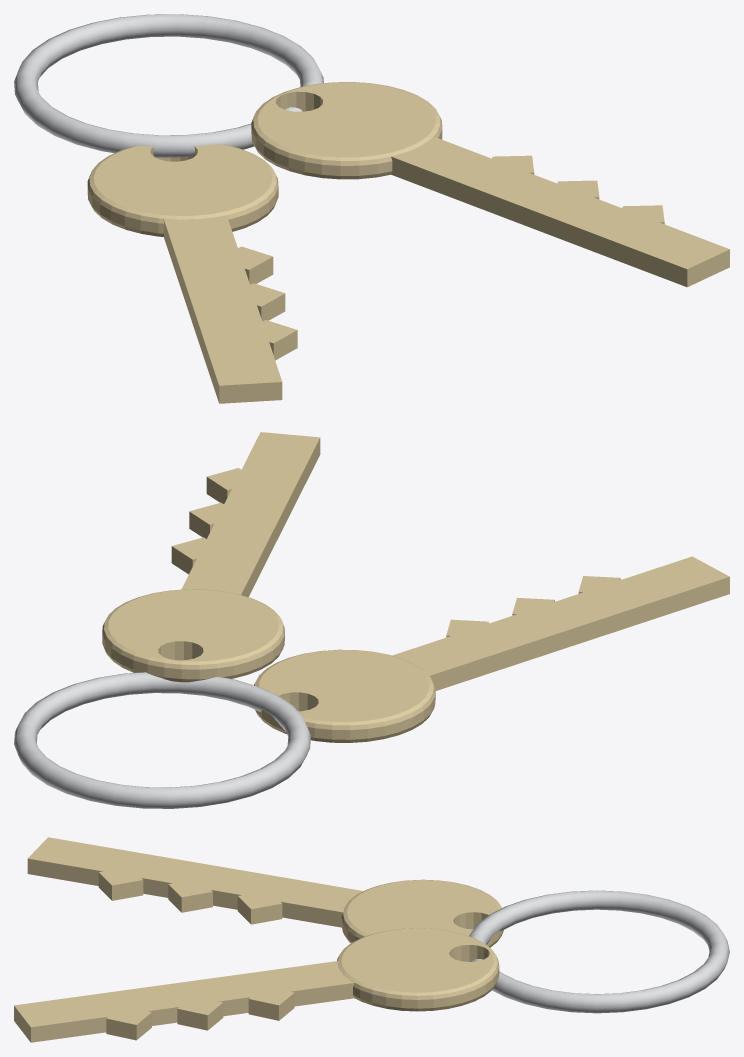
File: Cles.fbx
3 views of the same model, one above another, from view 1: azimuth 30°, elevation 25°; view 2: azimuth 150°, elevation 25°; view 3: azimuth 270°, elevation 25° (orthographic). The views are drawn at different scales.
Parts seen in each view (by area): view 1: Cles_Blade1, Cles_Head1, Cles_Head0, Cles_Ring, Cles_Blade0, Cles_Tooth00, Cles_Tooth01, Cles_Tooth02, Cles_Tooth10, Cles_Tooth12; view 2: Cles_Blade0, Cles_Ring, Cles_Head1, Cles_Head0, Cles_Blade1, Cles_Tooth10, Cles_Tooth11, Cles_Tooth12; view 3: Cles_Blade1, Cles_Head1, Cles_Blade0, Cles_Ring, Cles_Head0, Cles_Tooth10, Cles_Tooth12, Cles_Tooth11, Cles_Tooth00, Cles_Tooth02, Cles_Tooth01.
Part boxes in pixels (<box>): Cles_Blade1: <box>391,136,729,287</box>; Cles_Head1: <box>251,82,442,179</box>; Cles_Head0: <box>87,144,278,236</box>; Cles_Ring: <box>14,14,323,157</box>; Cles_Blade0: <box>163,215,282,403</box>; Cles_Tooth00: <box>217,246,273,284</box>; Cles_Tooth01: <box>230,283,285,321</box>; Cles_Tooth02: <box>242,320,297,360</box>; Cles_Tooth10: <box>492,155,534,174</box>; Cles_Tooth12: <box>622,205,664,224</box>; Cles_Blade0: <box>392,556,729,690</box>; Cles_Ring: <box>14,672,310,808</box>; Cles_Head1: <box>102,589,284,682</box>; Cles_Head0: <box>254,649,435,742</box>; Cles_Blade1: <box>181,432,320,597</box>; Cles_Tooth10: <box>171,537,223,574</box>; Cles_Tooth11: <box>189,502,240,538</box>; Cles_Tooth12: <box>206,468,257,503</box>; Cles_Blade1: <box>14,961,354,1042</box>; Cles_Head1: <box>337,928,499,1011</box>; Cles_Blade0: <box>27,837,363,927</box>; Cles_Ring: <box>469,890,729,1013</box>; Cles_Head0: <box>341,879,503,947</box>; Cles_Tooth10: <box>248,986,294,1020</box>; Cles_Tooth12: <box>106,1005,151,1040</box>; Cles_Tooth11: <box>177,996,223,1030</box>; Cles_Tooth00: <box>237,890,282,924</box>; Cles_Tooth02: <box>98,866,143,900</box>; Cles_Tooth01: <box>168,878,212,912</box>.
Size of the model in its own units: 0.0725 by 0.006 by 0.1051.
